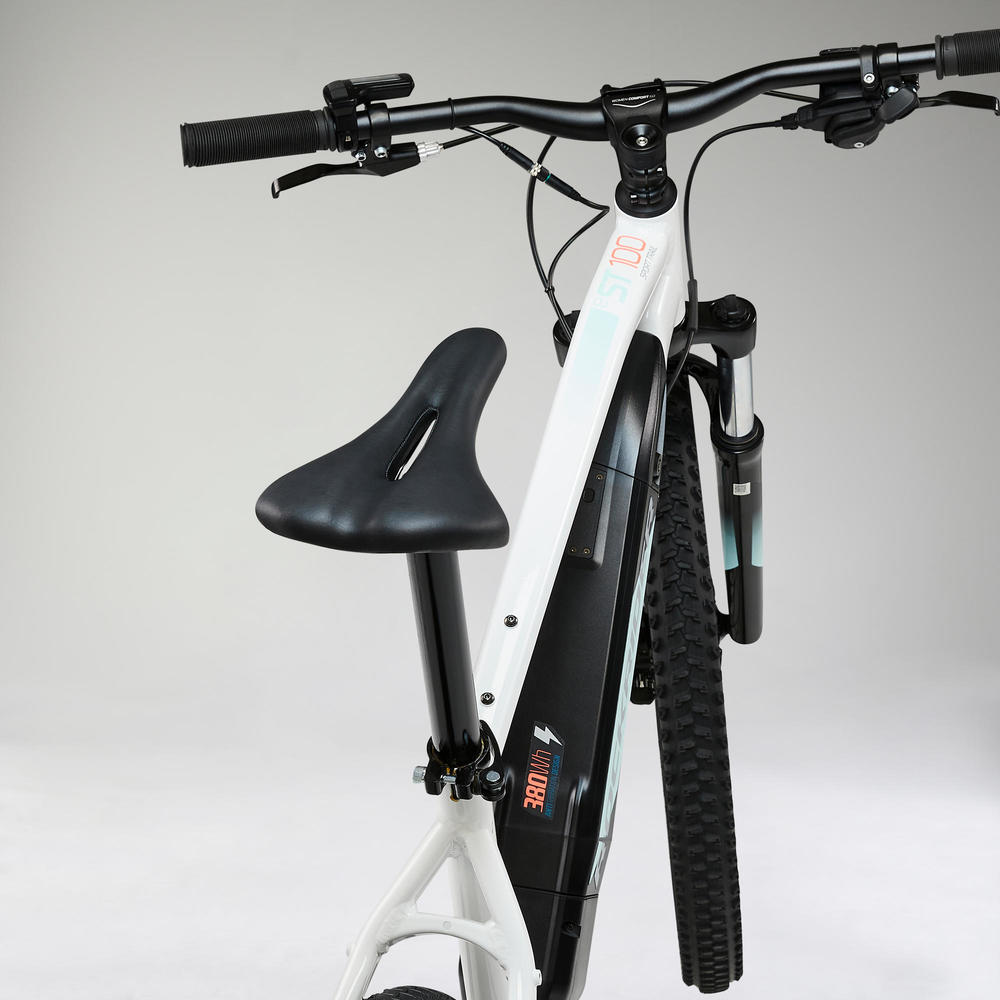MountainBike: (190, 29, 1000, 986)
